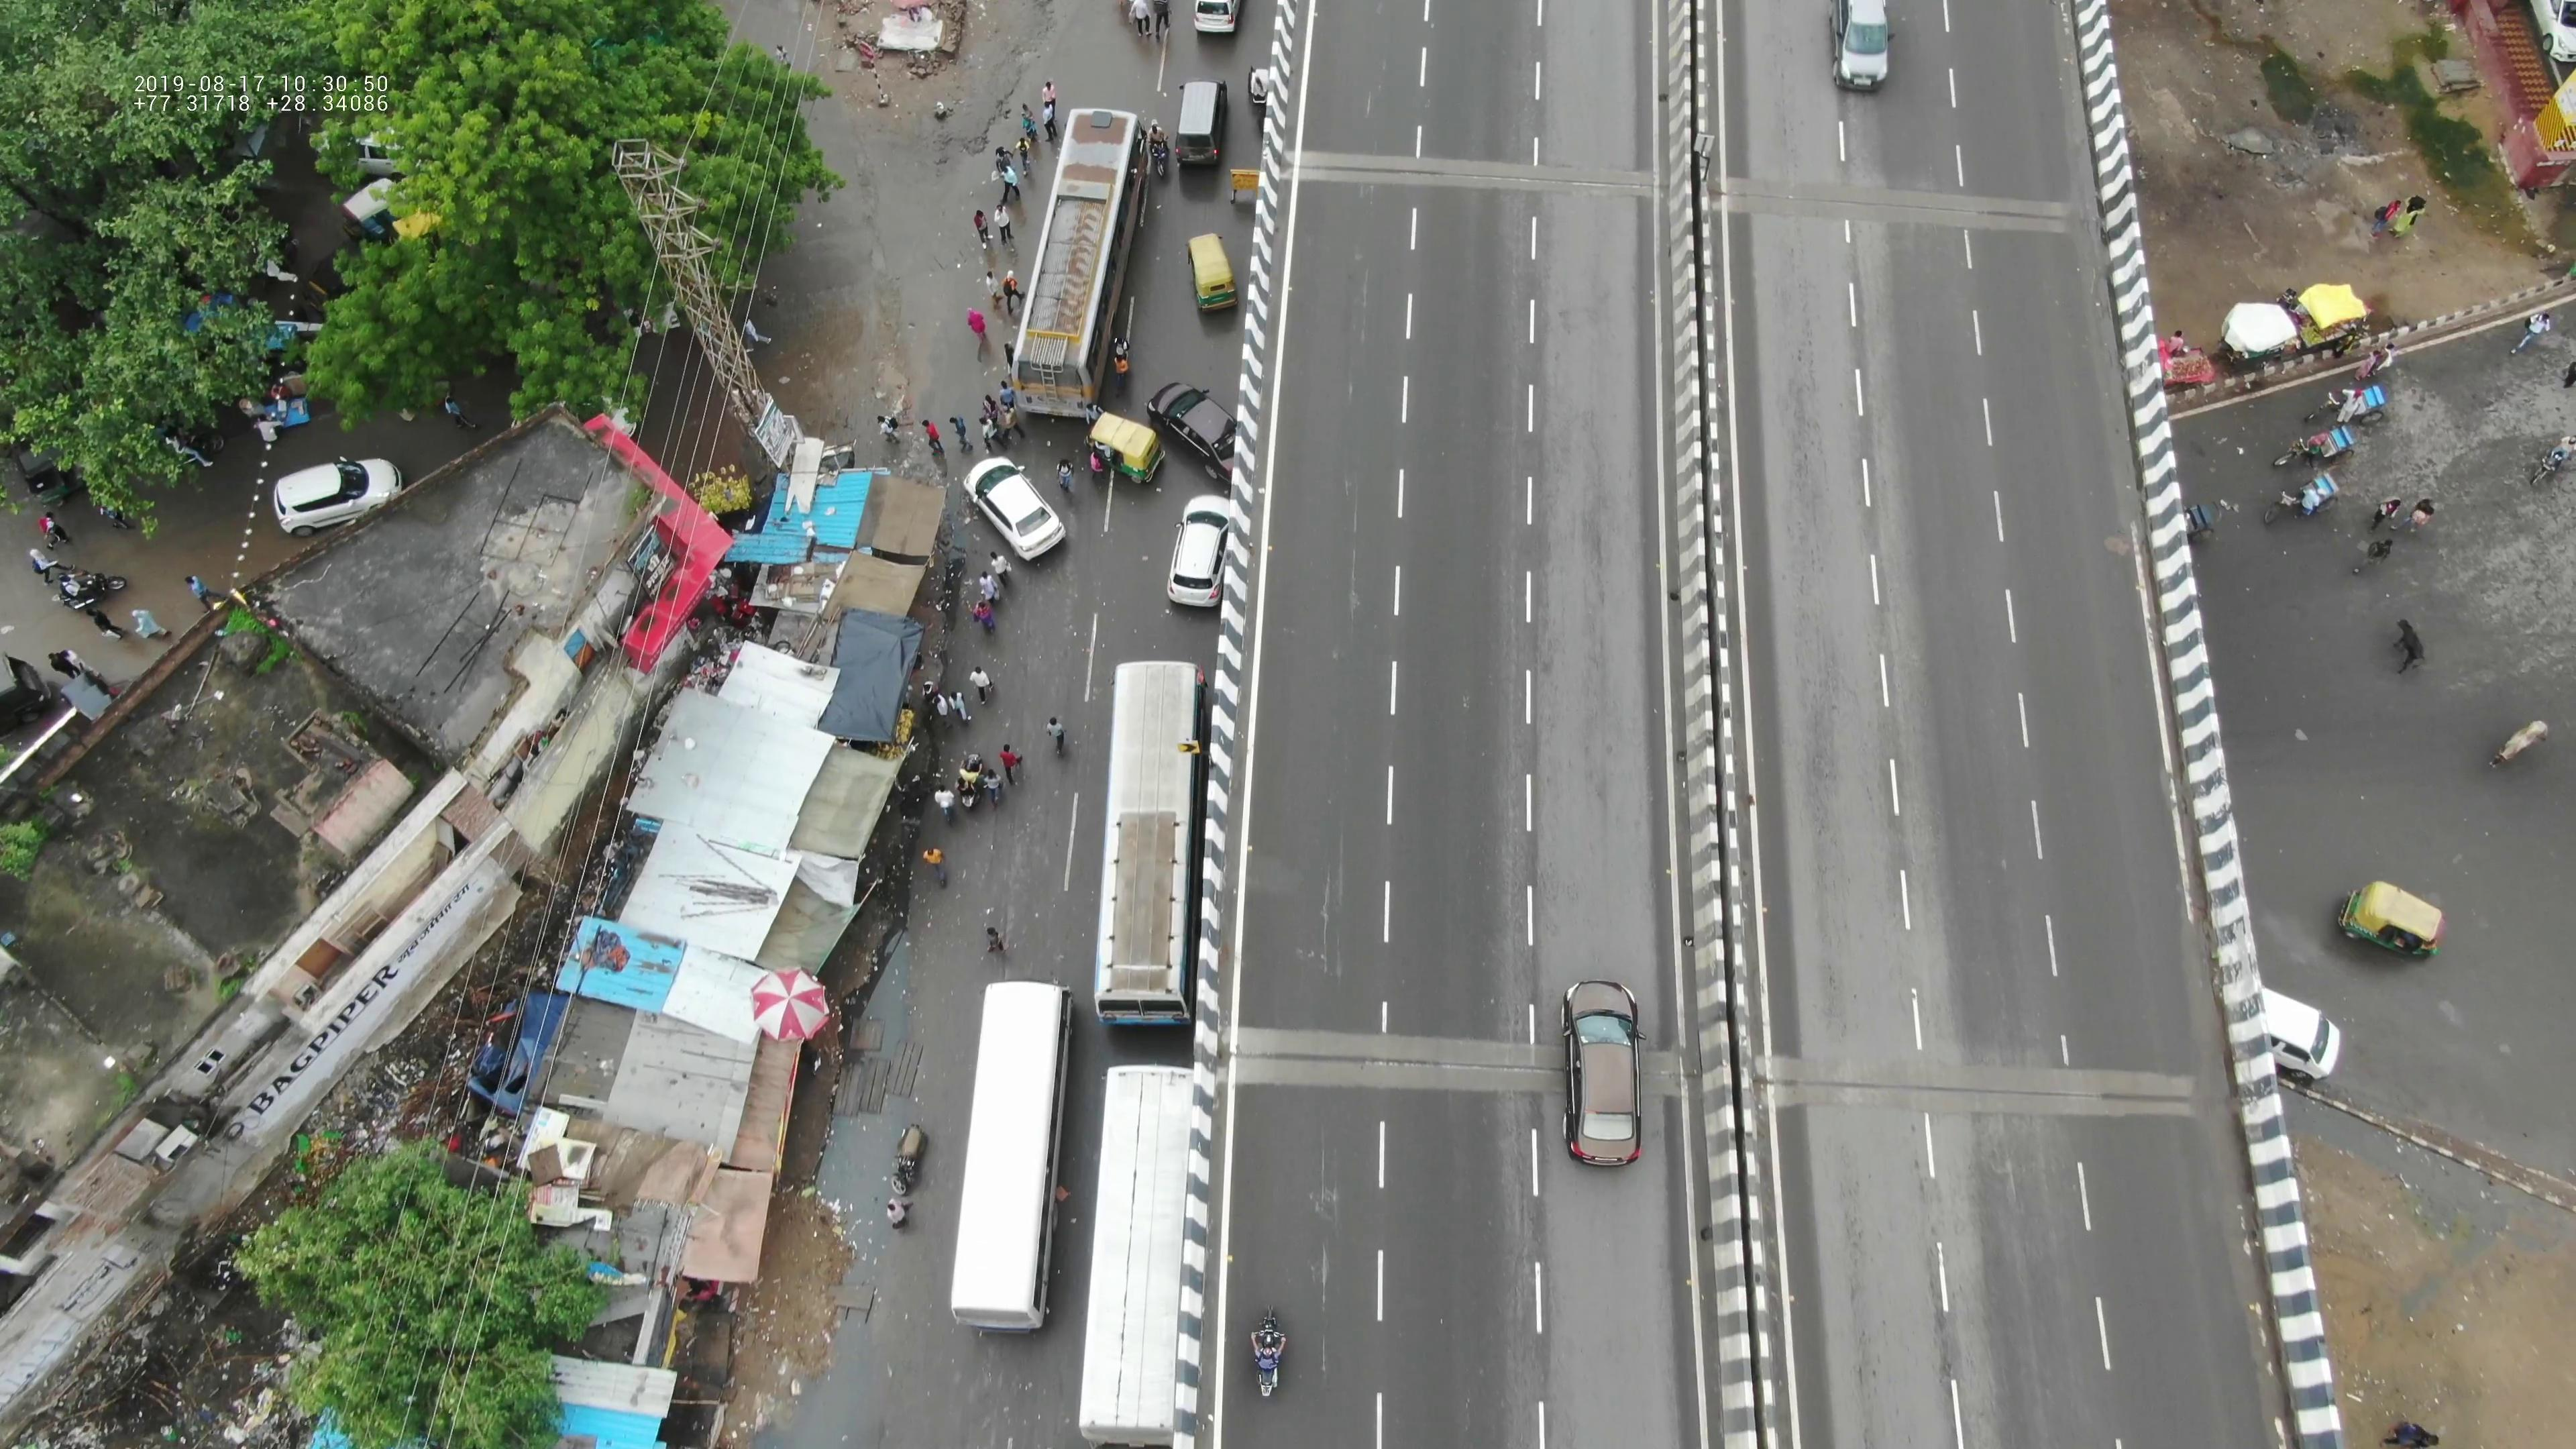Ravelling: (1299, 1113, 1364, 1306), (1299, 809, 1366, 989), (1330, 221, 1394, 391), (1327, 481, 1384, 603)
